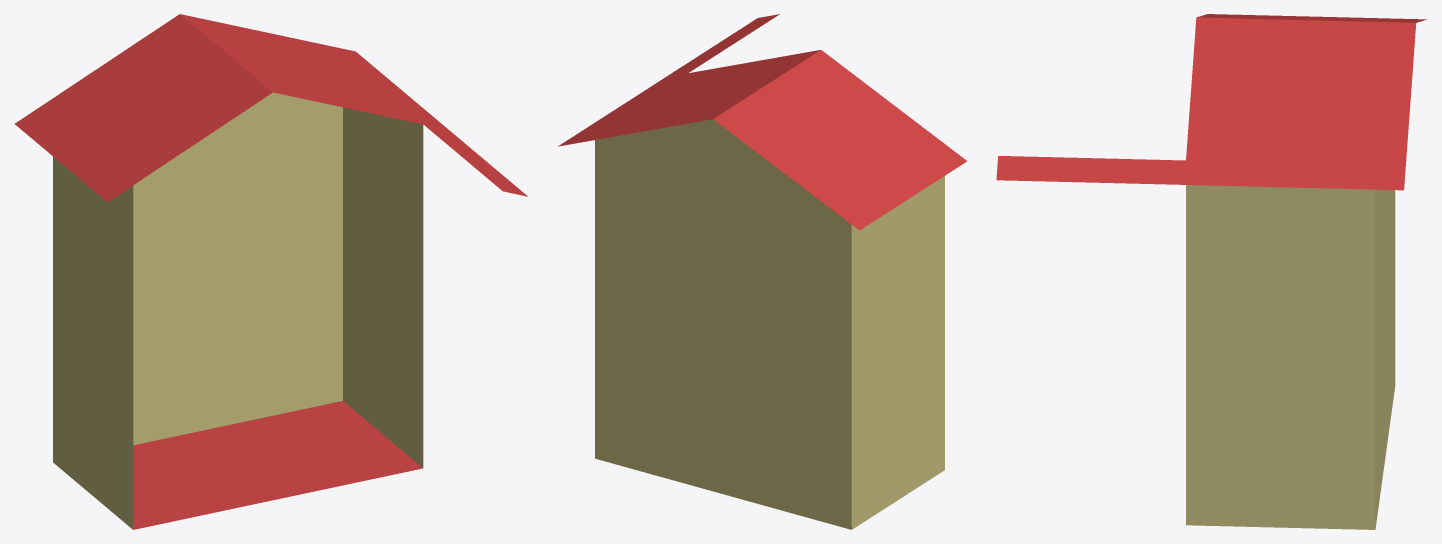
3 renders of one model, left to right at view 1: azimuth 30°, elevation 25°; view 2: azimuth 150°, elevation 25°; view 3: azimuth 270°, elevation 25°, orthographic. The views are drawn at different scales.
Bounding box in the file's own units: 6.85 × 7.08 × 7.84.
